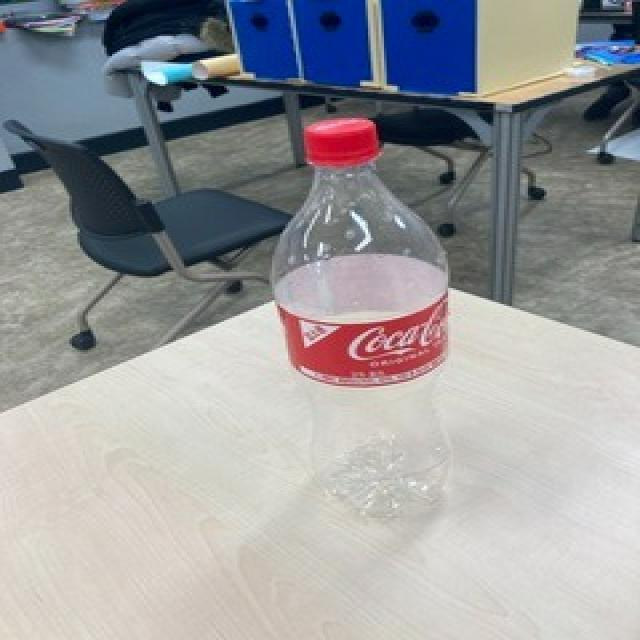good: (262, 112, 460, 528)
